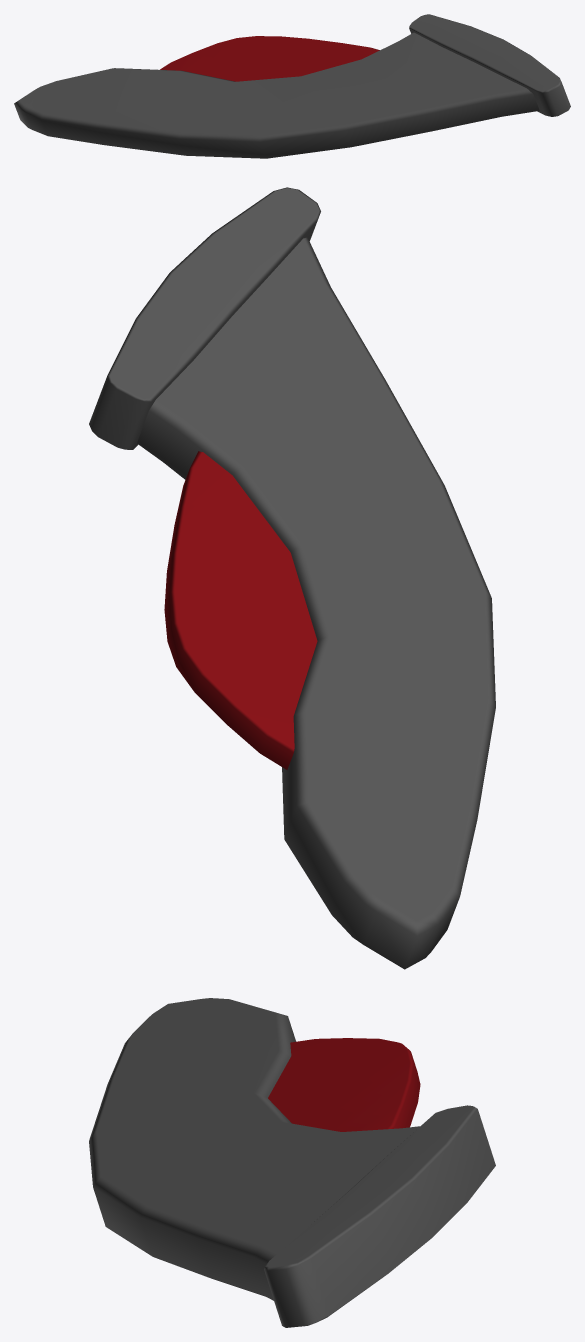
The model's file is Ship_enemy_02_Wing_R.fbx.
3 renders of one model, top to bottom at view 1: azimuth 30°, elevation 25°; view 2: azimuth 150°, elevation 25°; view 3: azimuth 330°, elevation 25°, orthographic. The views are drawn at different scales.
Parts seen in each view (by area): view 1: Ship_enemy_02_Wing_R; view 2: Ship_enemy_02_Wing_R; view 3: Ship_enemy_02_Wing_R.
Part boxes in pixels (left/top/right/bottom): Ship_enemy_02_Wing_R: left=14, top=14, right=570, bottom=158; Ship_enemy_02_Wing_R: left=89, top=187, right=495, bottom=969; Ship_enemy_02_Wing_R: left=89, top=998, right=495, bottom=1327.
Bounding box in the file's own units: 230 × 98.8 × 303.
